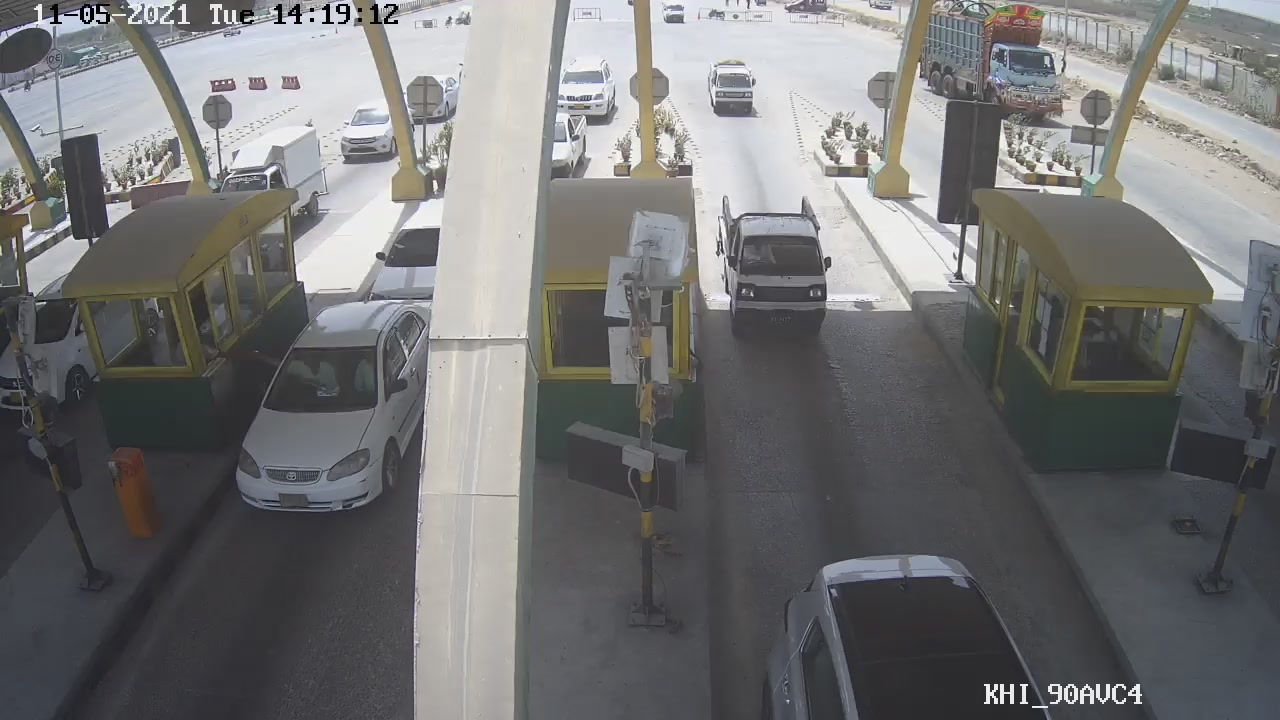F1: (717, 192, 837, 347)
